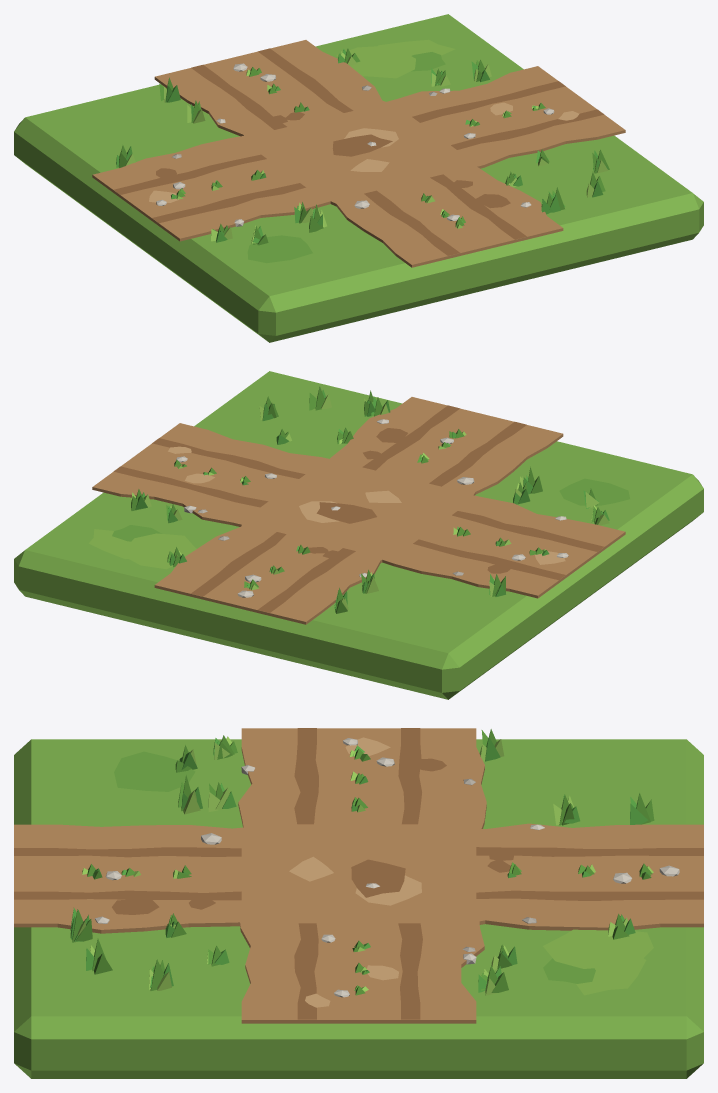
Rendered from road_l1_c.fbx.
The picture shows the model from 3 angles, top to bottom: view 1: azimuth 30°, elevation 25°; view 2: azimuth 150°, elevation 25°; view 3: azimuth 270°, elevation 25°; orthographic projection. The views are drawn at different scales.
Parts seen in each view (by area): view 1: road_l1_c, Road_XPlus, Road_YPlus, Road_YMinus, Road_XMinus; view 2: road_l1_c, Road_XPlus, Road_YPlus, Road_XMinus, Road_YMinus; view 3: road_l1_c, Road_XMinus, Road_YMinus, Road_YPlus, Road_XPlus.
Boxes of the visible parts, box(x1,y1,x2,y2) form: road_l1_c: box(14, 14, 703, 342); Road_XPlus: box(92, 133, 347, 242); Road_YPlus: box(317, 157, 565, 267); Road_YMinus: box(154, 40, 407, 146); Road_XMinus: box(368, 59, 625, 171); road_l1_c: box(14, 371, 703, 699); Road_XPlus: box(368, 482, 625, 598); Road_YPlus: box(318, 390, 563, 505); Road_XMinus: box(92, 423, 349, 528); Road_YMinus: box(154, 519, 382, 624); road_l1_c: box(14, 739, 703, 1078); Road_XMinus: box(207, 909, 517, 1023); Road_YMinus: box(441, 793, 703, 939); Road_YPlus: box(14, 824, 276, 942); Road_XPlus: box(208, 728, 504, 834).
Size of the model in its own units: 1 by 0.1534 by 1.
